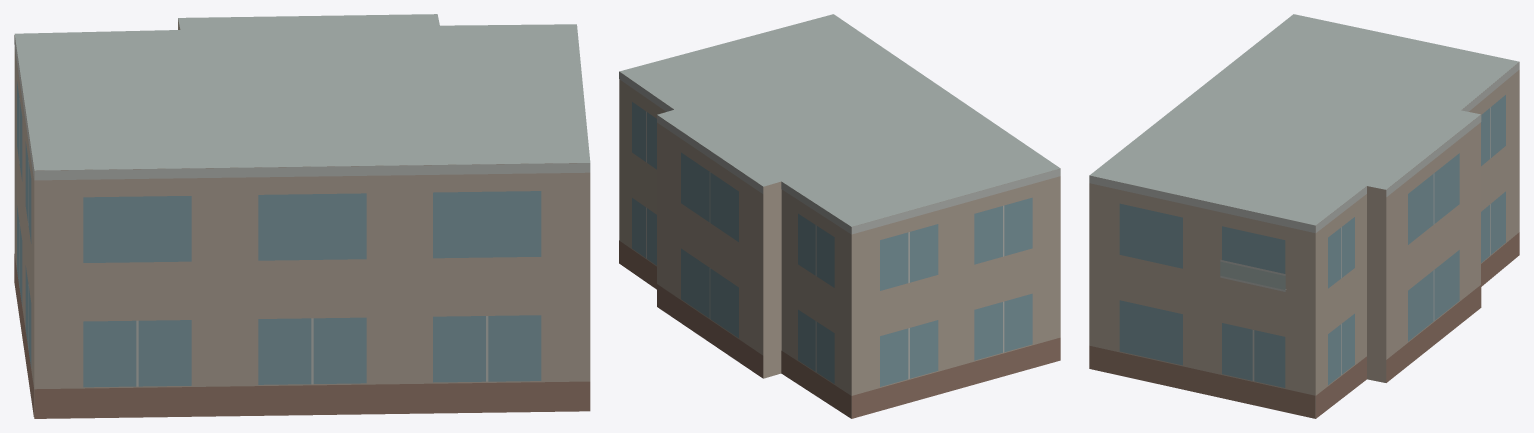
Rendered from survey-upis-32674152.glb.
3 renders of one model, left to right at view 1: azimuth 30°, elevation 25°; view 2: azimuth 150°, elevation 25°; view 3: azimuth 270°, elevation 25°, orthographic. The views are drawn at different scales.
Parts seen in each view (by area): view 1: survey-upis-32674152.tmp; view 2: survey-upis-32674152.tmp; view 3: survey-upis-32674152.tmp.
Boxes of the visible parts, box(x1,y1,x2,y2) form: survey-upis-32674152.tmp: box(14, 14, 590, 418); survey-upis-32674152.tmp: box(619, 14, 1060, 418); survey-upis-32674152.tmp: box(1089, 14, 1519, 418).
Size of the model in its own units: 14.32 by 6.1 by 12.31.
